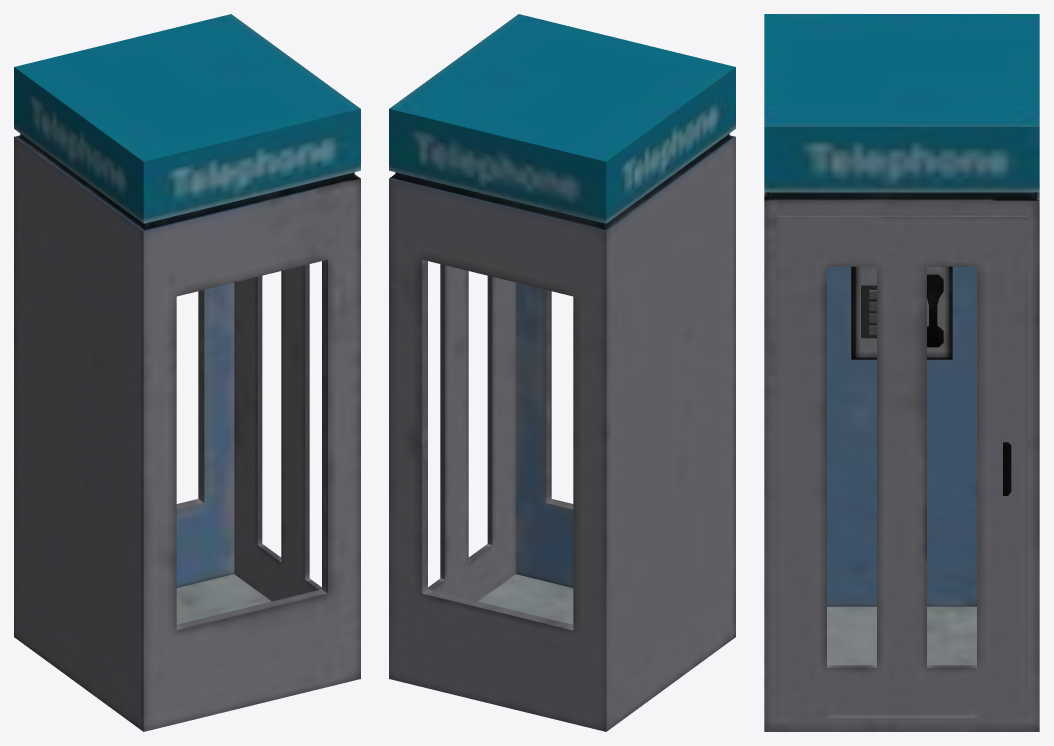
Rendered from phone_booth.glb.
3 renders of one model, left to right at view 1: azimuth 30°, elevation 25°; view 2: azimuth 150°, elevation 25°; view 3: azimuth 270°, elevation 25°, orthographic. The views are drawn at different scales.
Parts seen in each view (by area): view 1: Telephone_Cabin, Door; view 2: Telephone_Cabin, Door; view 3: Telephone_Cabin, Door.
Part boxes in pixels (left/top/right/bottom): Telephone_Cabin: left=14, top=14, right=360, bottom=731; Door: left=234, top=264, right=321, bottom=601; Telephone_Cabin: left=389, top=14, right=735, bottom=731; Door: left=428, top=264, right=515, bottom=601; Telephone_Cabin: left=764, top=14, right=1039, bottom=731; Door: left=776, top=215, right=1027, bottom=717.
Bounding box in the file's own units: 1.09 × 2.62 × 1.08.
1 material, 1 textured.
